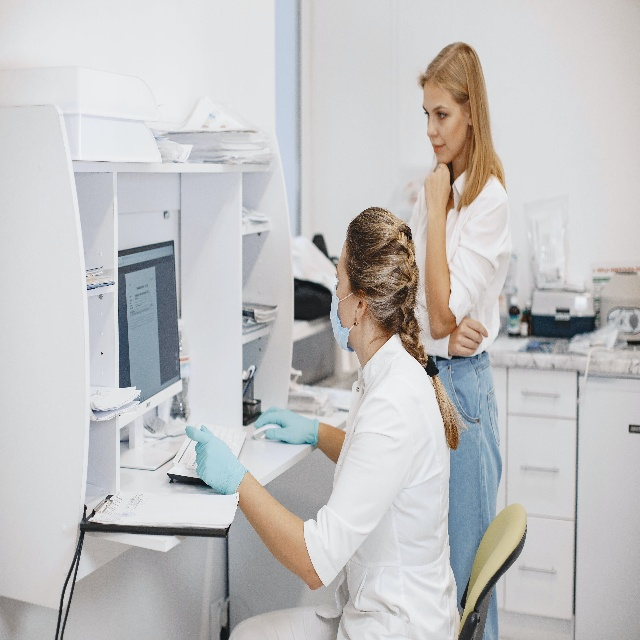Guantes: (184, 421, 251, 498), (254, 404, 321, 450)
Mascara: (329, 283, 359, 353)
Sin_guantes: (448, 316, 489, 357), (424, 163, 451, 212)
